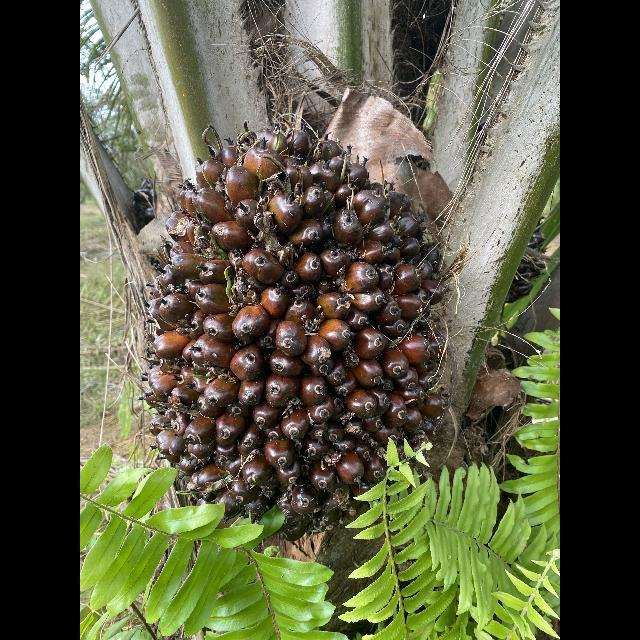Unripe: (140, 128, 450, 523)
